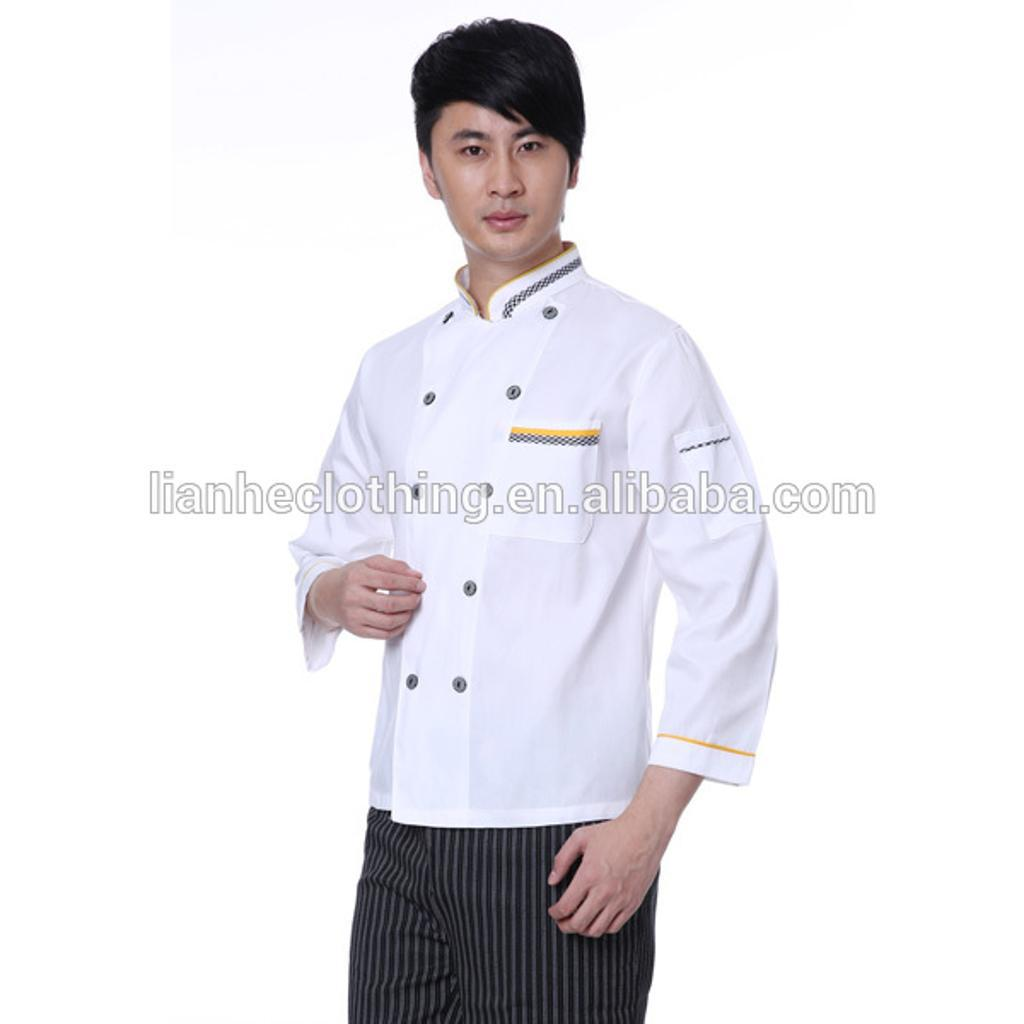face: (431, 77, 573, 257)
